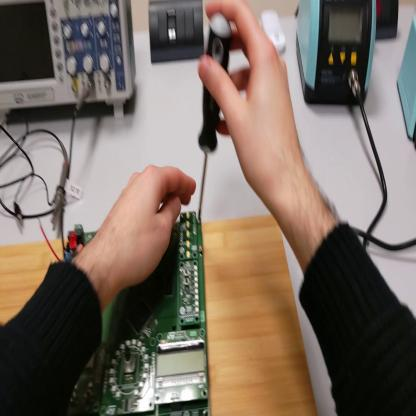hand: (196, 2, 302, 201), (102, 164, 197, 293)
low voltage board: (42, 207, 213, 416)
oscilloscope: (2, 3, 137, 124)
oscilloscope probe tip: (53, 151, 71, 229)
screwdriver-: (200, 15, 235, 227)
socket: (377, 2, 401, 45)
welder station: (297, 1, 377, 109), (396, 17, 416, 141)
working area: (1, 216, 318, 416)
